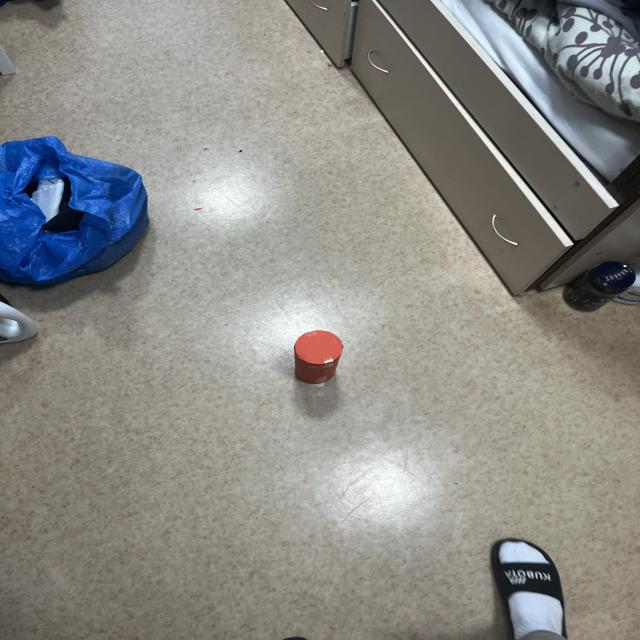przeszkoda: (294, 330, 343, 384)
